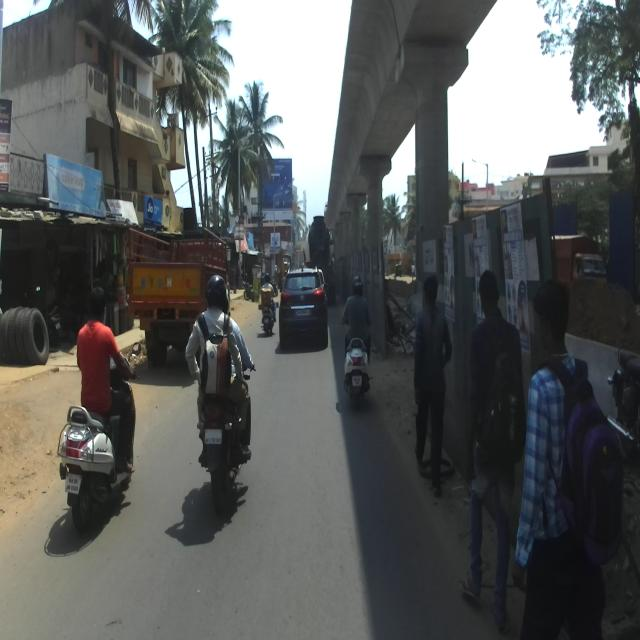car ahead at: (279, 266, 326, 350)
motorcycle ahead at: (55, 400, 141, 532), (186, 396, 256, 514), (343, 338, 374, 399)
